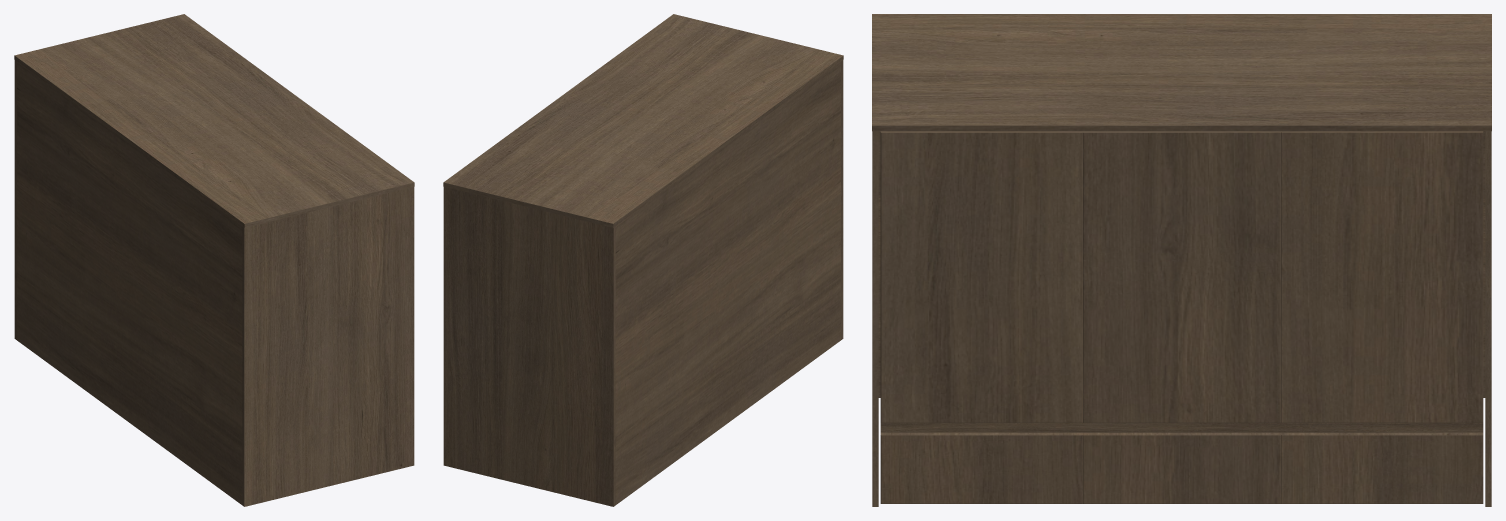
Rendered from CABINET TEST.glb.
3 views of the same model, side by side, from view 1: azimuth 30°, elevation 25°; view 2: azimuth 150°, elevation 25°; view 3: azimuth 270°, elevation 25° (orthographic). The views are drawn at different scales.
Parts seen in each view (by area): view 1: CAISSON; view 2: CAISSON; view 3: FACADE, CAISSON, INTERIEUR.
Part boxes in pixels (bbox=[...]): CAISSON: bbox=[14, 14, 414, 506]; CAISSON: bbox=[443, 14, 843, 506]; FACADE: bbox=[880, 131, 1483, 503]; CAISSON: bbox=[872, 14, 1491, 506]; INTERIEUR: bbox=[880, 423, 1483, 432].
Size of the model in its own units: 0.8311 by 1.32 by 1.95.
1 material, 1 textured.
